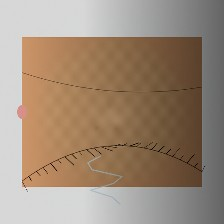foreign_body_visible: (77, 95, 115, 126)
